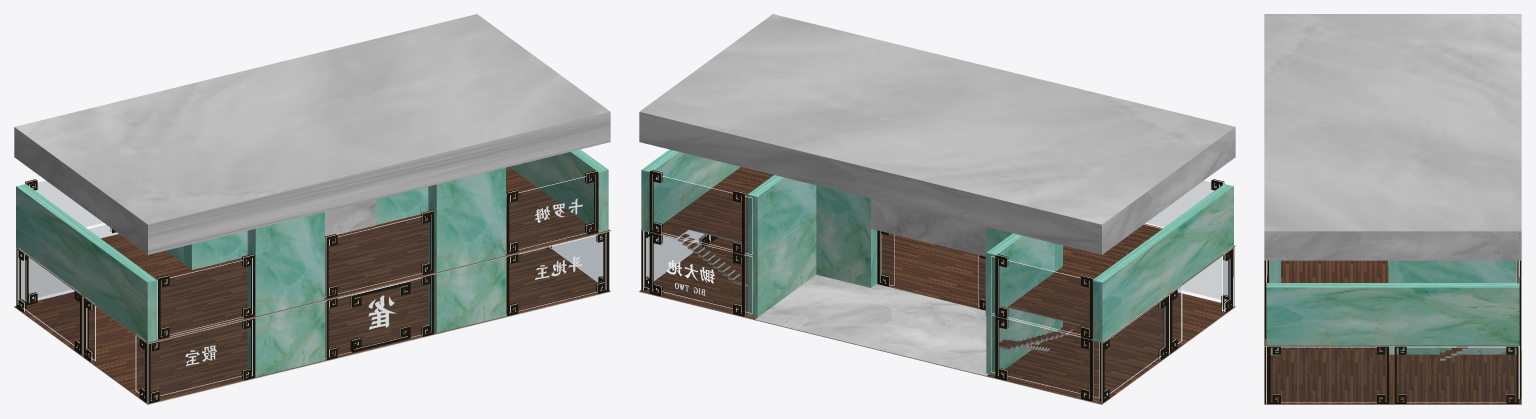
The model's file is building_4x2.glb.
The picture shows the model from 3 angles, left to right: view 1: azimuth 30°, elevation 25°; view 2: azimuth 150°, elevation 25°; view 3: azimuth 270°, elevation 25°; orthographic projection. The views are drawn at different scales.
Parts seen in each view (by area): view 1: Cube, floorback, floorback_l2, solidwall, solidwall.001, solidwall.013_r_l2, glass_back.001, glass_backright, glass_back_left, glass_back, glass_backright.001, glass_back_left.001 (+10 smaller); view 2: Cube, floorfront, solidwall.013_r_l2, floorback, solidwall_front_left_vert, floorright, solidwall_front_right_vert, glass_fr, solidwall_front_left, glass_fl.001, glass_fr.001, glass_fl (+14 smaller); view 3: Cube, solidwall.012_l_l2, floorback, glass_l2, glass_l1, floorleft, solidwall_front_left_vert, floorback_l2, solidwall_front_left, deco.019, deco.018, deco.001 (+3 smaller).
Part boxes in pixels (<box>): Cube: <box>14,14,610,254</box>; floorback: <box>81,247,610,404</box>; floorback_l2: <box>81,184,610,344</box>; solidwall: <box>428,167,505,332</box>; solidwall.001: <box>247,212,324,376</box>; solidwall.013_r_l2: <box>16,184,157,342</box>; glass_back.001: <box>325,216,430,296</box>; glass_backright: <box>151,318,251,398</box>; glass_back_left: <box>506,233,605,314</box>; glass_back: <box>325,278,430,358</box>; glass_backright.001: <box>161,259,251,334</box>; glass_back_left.001: <box>506,173,598,252</box>; Cube: <box>639,14,1235,254</box>; floorfront: <box>755,274,988,376</box>; solidwall.013_r_l2: <box>1092,184,1233,342</box>; floorback: <box>709,233,1235,355</box>; solidwall_front_left_vert: <box>747,175,816,317</box>; floorright: <box>986,329,1168,404</box>; solidwall_front_right_vert: <box>986,233,1054,375</box>; glass_fr: <box>991,315,1099,398</box>; solidwall_front_left: <box>816,185,877,287</box>; glass_fl.001: <box>649,173,752,254</box>; glass_fr.001: <box>991,256,1098,339</box>; glass_fl: <box>644,231,752,313</box>; Cube: <box>1264,14,1521,260</box>; solidwall.012_l_l2: <box>1266,283,1519,345</box>; floorback: <box>1264,346,1392,404</box>; glass_l2: <box>1397,347,1515,402</box>; glass_l1: <box>1271,347,1386,402</box>; floorleft: <box>1393,350,1521,404</box>; solidwall_front_left_vert: <box>1403,260,1516,354</box>; floorback_l2: <box>1264,260,1392,346</box>; solidwall_front_left: <box>1388,260,1403,354</box>; deco.019: <box>1506,346,1518,403</box>; deco.018: <box>1394,346,1406,403</box>; deco.001: <box>1268,346,1280,403</box>.
Size of what is drawn, in the model's own units: 64 by 23.82 by 32.
Materials: 17 (13 with a texture image).
